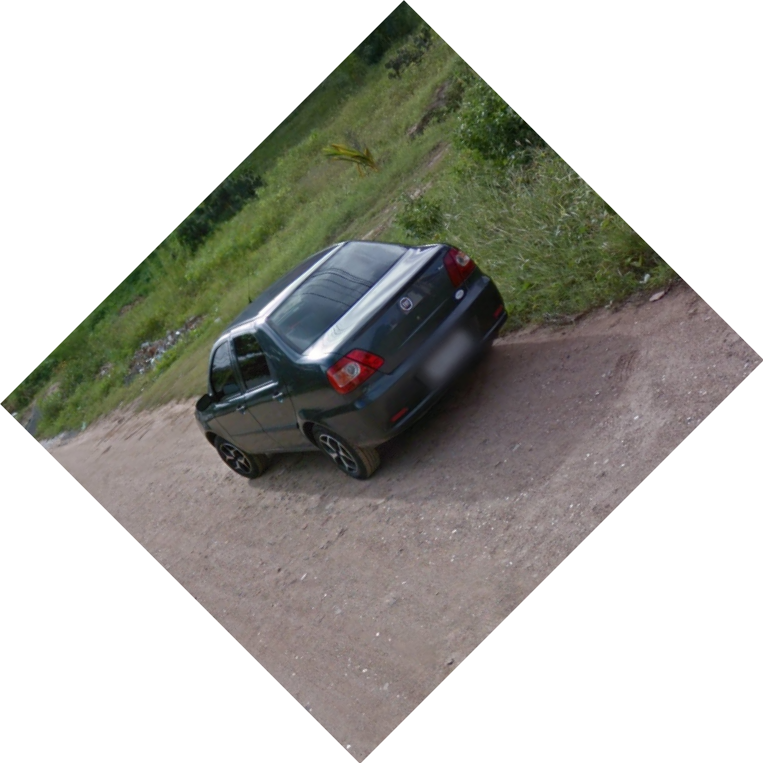car: (192, 236, 511, 480)
